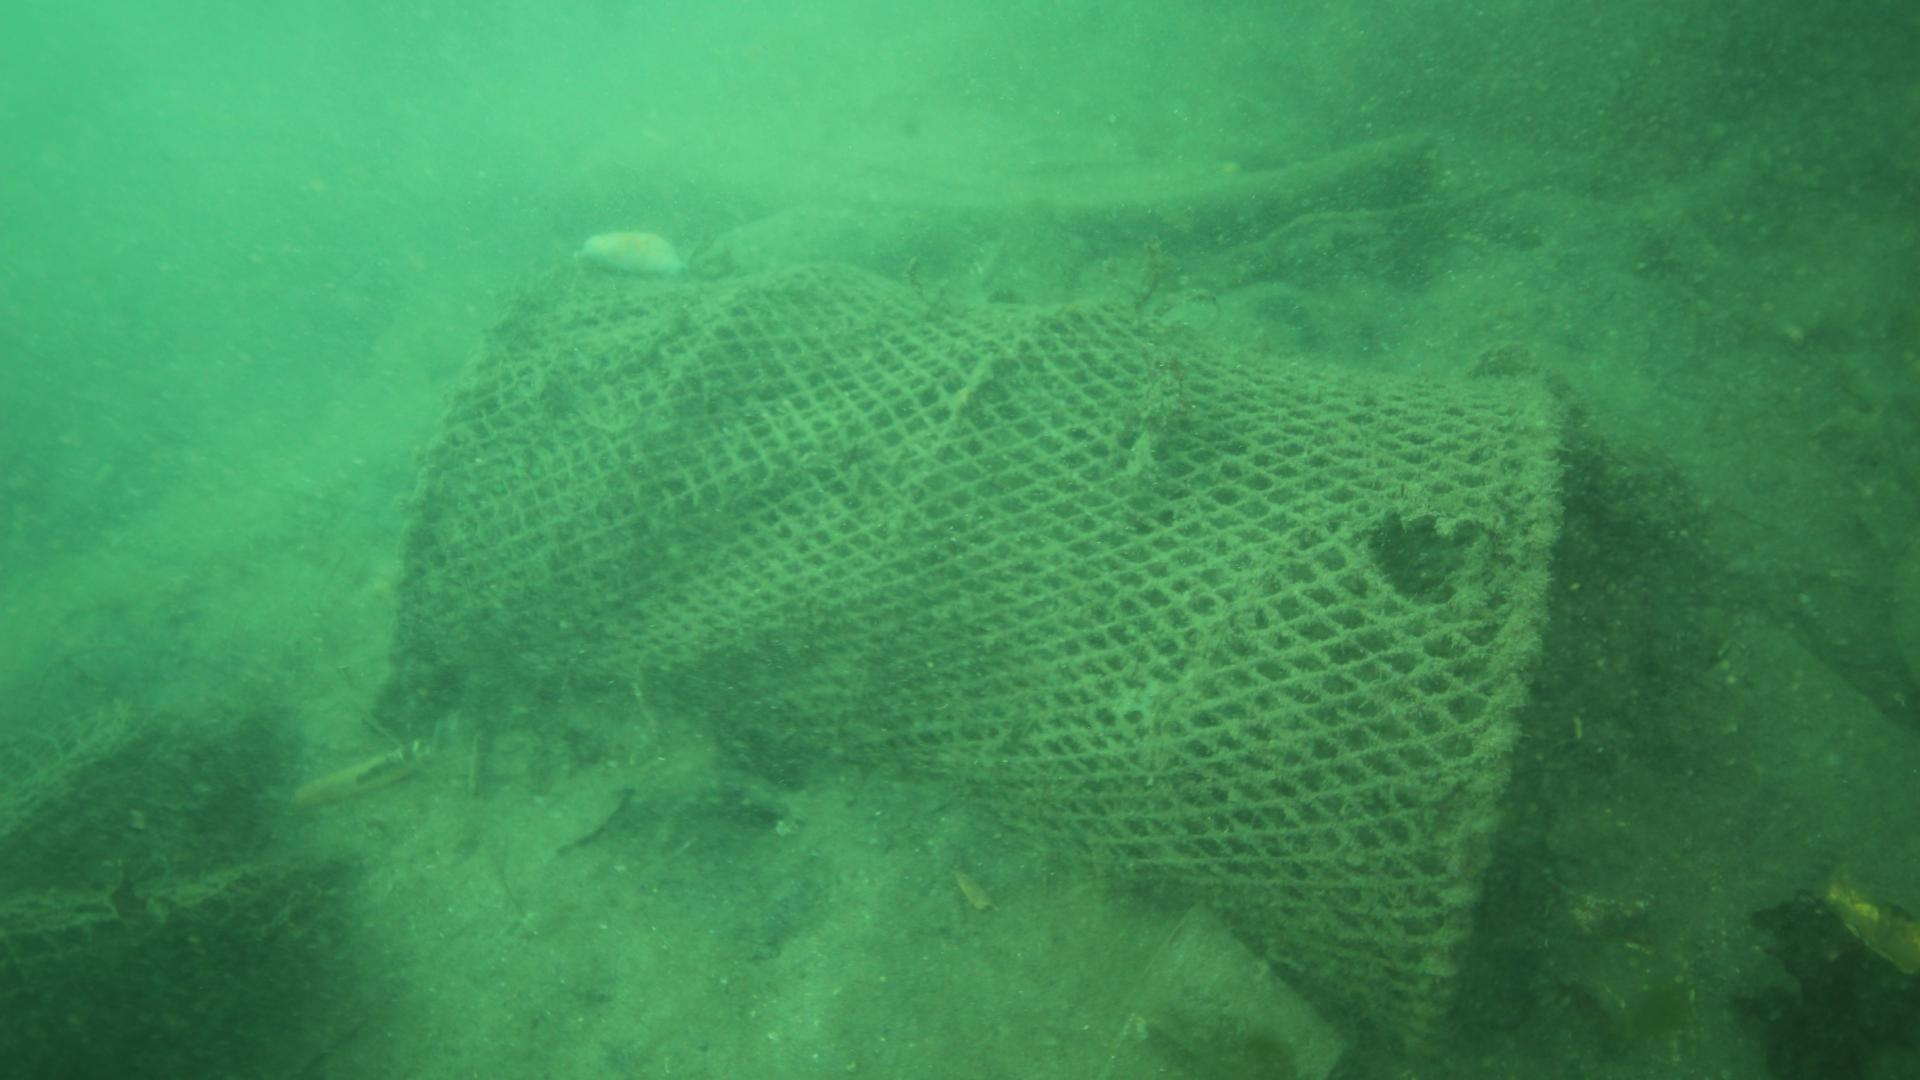spring fish trap: (368, 244, 1569, 1063)
